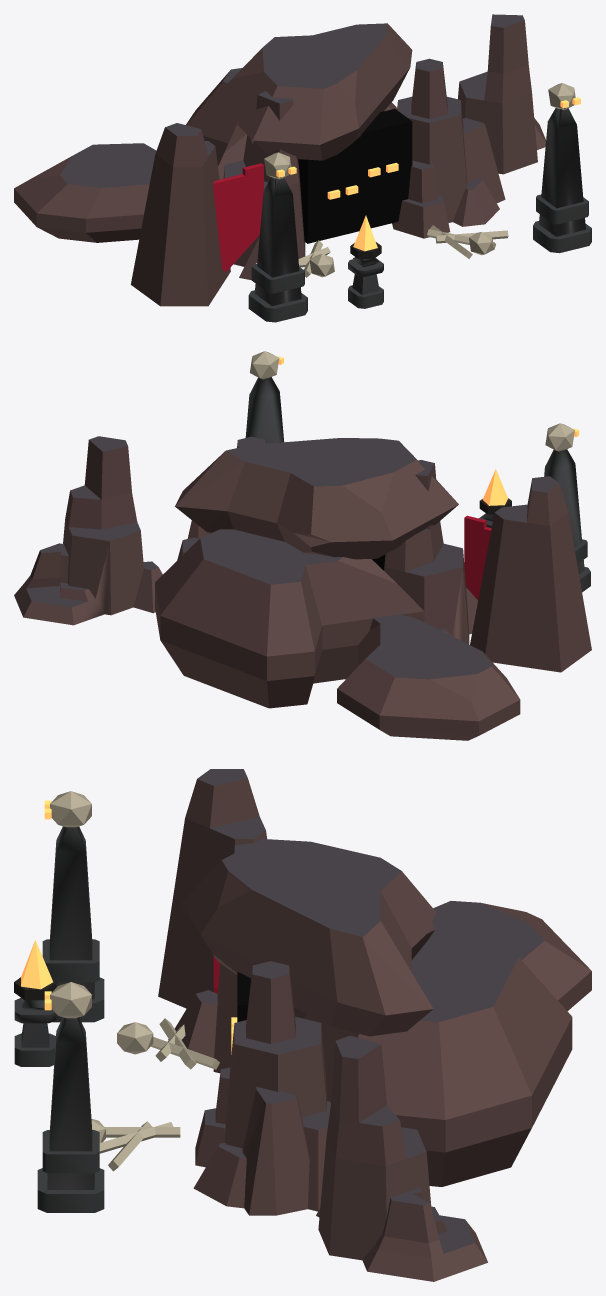
Rendered from wolfden_l2.glb.
3 views of the same model, one above another, from view 1: azimuth 30°, elevation 25°; view 2: azimuth 150°, elevation 25°; view 3: azimuth 270°, elevation 25° (orthographic). The views are drawn at different scales.
Visible parts, largest first — view 1: wolfden_l2; view 2: wolfden_l2; view 3: wolfden_l2.
Boxes of the visible parts, x1=… form: wolfden_l2: x1=14, y1=14, x2=591, y2=322; wolfden_l2: x1=14, y1=351, x2=591, y2=740; wolfden_l2: x1=14, y1=769, x2=591, y2=1281.
Bounding box in the file's own units: 7.28 × 2.46 × 5.35.
